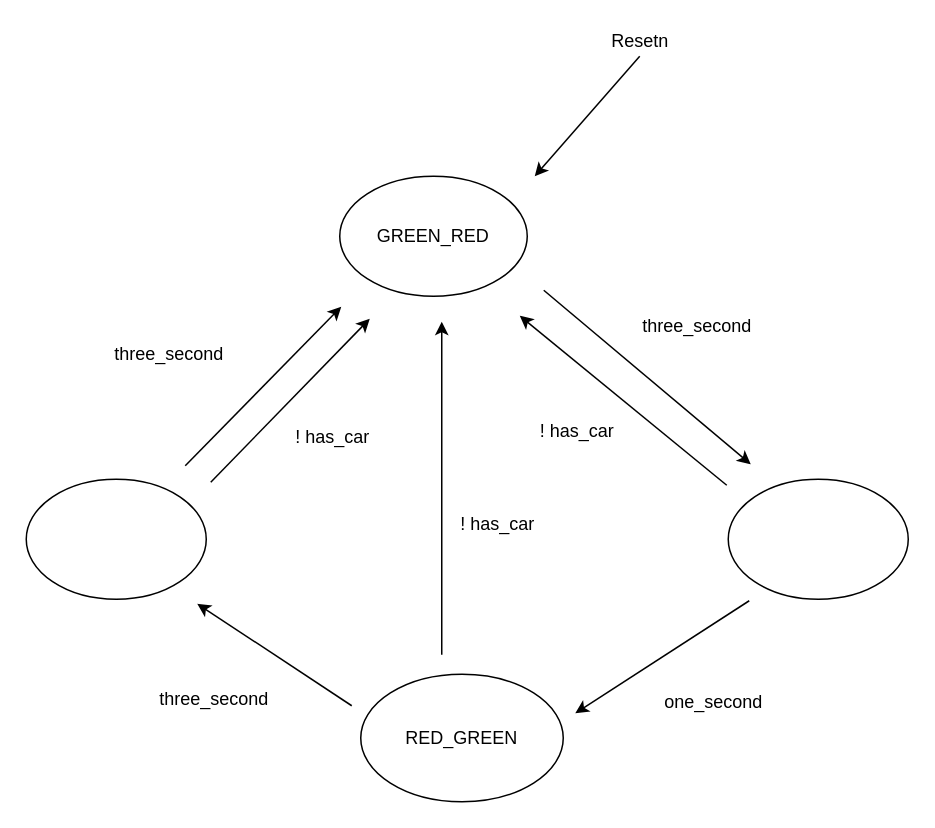
The diagram is 935 pixels wide and 828 high, and some of its shapes have lost their labels. Each missing label, with the centre of its shape:
"RED_YELLOW" goes at point 115,538.
"YELLOW_RED" goes at point 817,538.
